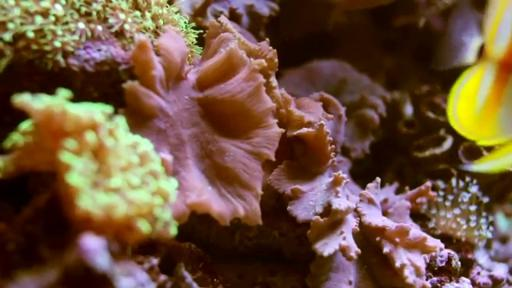Fish: (447, 0, 511, 172)
